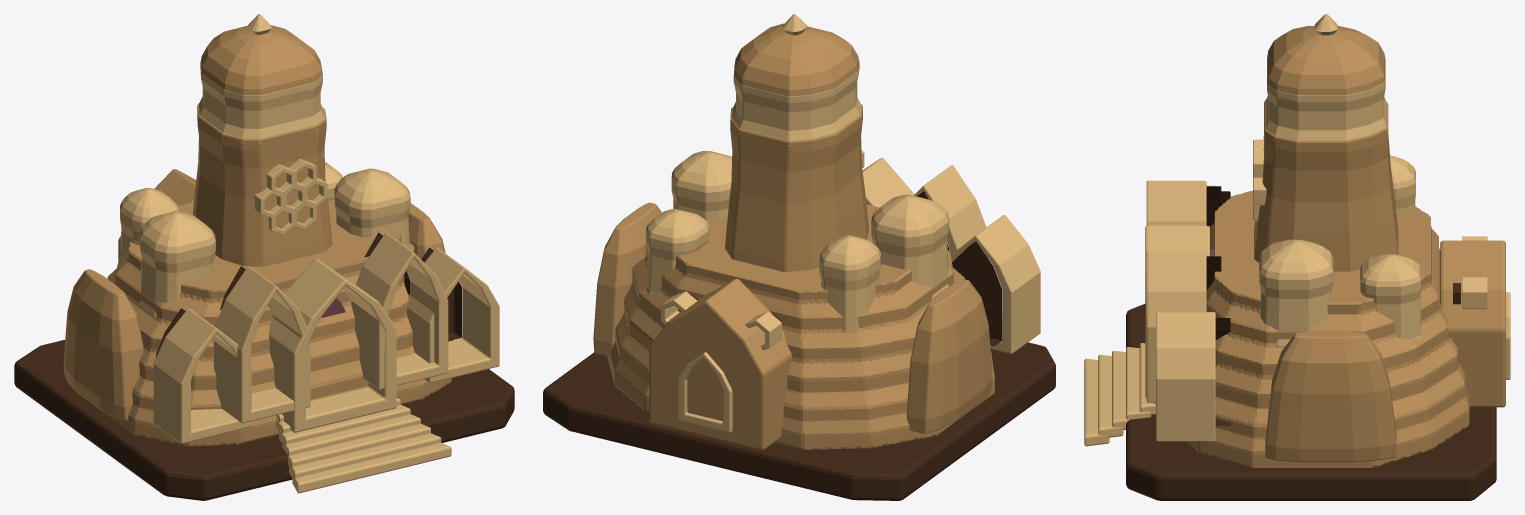
File: honeycomb-royal-palace-spline-v001.glb
The picture shows the model from 3 angles, left to right: view 1: azimuth 30°, elevation 25°; view 2: azimuth 150°, elevation 25°; view 3: azimuth 270°, elevation 25°; orthographic projection. The views are drawn at different scales.
Visible parts, largest first — view 1: P0_UNIFIED_12_SECTION_CIVIC_SHELL, P1_ROYAL_COURT, P4_CENTRAL_CIVIC_KEEP, P2_DEEP_PORTAL_TUNNEL, P7_SIDE_SERVICE_BAY_LEFT, P3_BAY_INNER_RIGHT_DEEP_FRAME, P3_BAY_INNER_LEFT_DEEP_FRAME, P3_BAY_OUTER_LEFT_DEEP_FRAME, P3_BAY_OUTER_RIGHT_DEEP_FRAME, P5_SHALLOW_SEGMENTED_HERO_ROOF, P6_FRONT_LEFT_SPLINE_TOWER, P5_UPPER_LANTERN (+12 smaller); view 2: P0_UNIFIED_12_SECTION_CIVIC_SHELL, P1_ROYAL_COURT, P4_CENTRAL_CIVIC_KEEP, P7_REAR_APSE_GABLED_BODY, P7_SIDE_SERVICE_BAY_LEFT, P5_SHALLOW_SEGMENTED_HERO_ROOF, P5_UPPER_LANTERN, P6_FRONT_LEFT_SPLINE_TOWER, P3_BAY_OUTER_LEFT_DEEP_FRAME, P7_SIDE_SERVICE_BAY_RIGHT, P6_REAR_LEFT_SPLINE_TOWER, P6_FRONT_RIGHT_SPLINE_TOWER (+7 smaller); view 3: P0_UNIFIED_12_SECTION_CIVIC_SHELL, P1_ROYAL_COURT, P4_CENTRAL_CIVIC_KEEP, P7_SIDE_SERVICE_BAY_RIGHT, P7_REAR_APSE_GABLED_BODY, P3_BAY_OUTER_RIGHT_DEEP_FRAME, P5_SHALLOW_SEGMENTED_HERO_ROOF, P6_FRONT_RIGHT_SPLINE_TOWER, P5_UPPER_LANTERN, P3_BAY_INNER_RIGHT_DEEP_FRAME, P6_REAR_RIGHT_SPLINE_TOWER, P3_BAY_INNER_LEFT_DEEP_FRAME (+9 smaller).
Boxes of the visible parts, box(x1,y1,x2,y2) form: P0_UNIFIED_12_SECTION_CIVIC_SHELL: box(77, 200, 453, 446); P1_ROYAL_COURT: box(14, 340, 514, 500); P4_CENTRAL_CIVIC_KEEP: box(192, 102, 332, 266); P2_DEEP_PORTAL_TUNNEL: box(269, 258, 396, 432); P7_SIDE_SERVICE_BAY_LEFT: box(63, 269, 143, 420); P3_BAY_INNER_RIGHT_DEEP_FRAME: box(351, 232, 448, 389); P3_BAY_INNER_LEFT_DEEP_FRAME: box(213, 266, 310, 423); P3_BAY_OUTER_LEFT_DEEP_FRAME: box(153, 308, 251, 443); P3_BAY_OUTER_RIGHT_DEEP_FRAME: box(407, 247, 499, 383); P5_SHALLOW_SEGMENTED_HERO_ROOF: box(200, 25, 322, 95); P6_FRONT_LEFT_SPLINE_TOWER: box(139, 211, 215, 318); P5_UPPER_LANTERN: box(199, 62, 326, 143); P0_UNIFIED_12_SECTION_CIVIC_SHELL: box(607, 204, 994, 449); P1_ROYAL_COURT: box(543, 342, 1055, 500); P4_CENTRAL_CIVIC_KEEP: box(725, 104, 868, 272); P7_REAR_APSE_GABLED_BODY: box(649, 278, 791, 450); P7_SIDE_SERVICE_BAY_LEFT: box(906, 279, 992, 433); P5_SHALLOW_SEGMENTED_HERO_ROOF: box(734, 23, 859, 96); P5_UPPER_LANTERN: box(732, 62, 861, 146); P6_FRONT_LEFT_SPLINE_TOWER: box(871, 194, 949, 299); P3_BAY_OUTER_LEFT_DEEP_FRAME: box(951, 215, 1040, 353); P7_SIDE_SERVICE_BAY_RIGHT: box(593, 202, 661, 356); P6_REAR_LEFT_SPLINE_TOWER: box(819, 235, 880, 333); P6_FRONT_RIGHT_SPLINE_TOWER: box(671, 151, 732, 220); P0_UNIFIED_12_SECTION_CIVIC_SHELL: box(1188, 190, 1469, 467); P1_ROYAL_COURT: box(1126, 304, 1496, 500); P4_CENTRAL_CIVIC_KEEP: box(1254, 100, 1398, 271); P7_SIDE_SERVICE_BAY_RIGHT: box(1265, 332, 1396, 462); P7_REAR_APSE_GABLED_BODY: box(1440, 240, 1505, 407); P3_BAY_OUTER_RIGHT_DEEP_FRAME: box(1156, 312, 1215, 441); P5_SHALLOW_SEGMENTED_HERO_ROOF: box(1267, 26, 1385, 95); P6_FRONT_RIGHT_SPLINE_TOWER: box(1259, 239, 1333, 347); P5_UPPER_LANTERN: box(1264, 57, 1388, 141); P3_BAY_INNER_RIGHT_DEEP_FRAME: box(1146, 250, 1206, 402); P6_REAR_RIGHT_SPLINE_TOWER: box(1360, 254, 1421, 339); P3_BAY_INNER_LEFT_DEEP_FRAME: box(1146, 180, 1206, 225).
Size of the model in its own units: 3.68 by 3.82 by 3.7.
